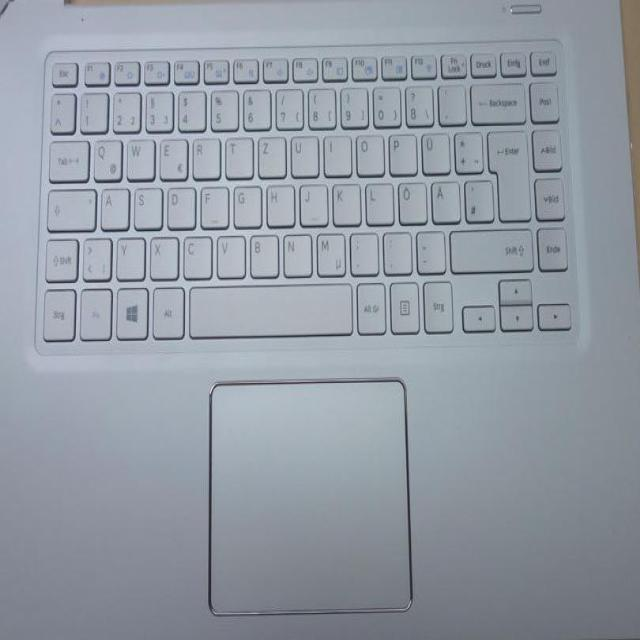0: (369, 81, 398, 124)
1: (77, 88, 106, 130)
2: (109, 88, 139, 129)
3: (143, 87, 172, 129)
4: (175, 86, 203, 129)
5: (207, 86, 235, 128)
6: (240, 85, 268, 126)
7: (272, 84, 301, 126)
8: (305, 83, 334, 126)
9: (337, 82, 366, 125)
a: (98, 183, 127, 226)
accent: (435, 79, 464, 122)
ae: (429, 177, 458, 220)
alt-left: (150, 283, 183, 336)
altgr-right: (353, 278, 384, 331)
b: (247, 230, 277, 274)
c: (181, 231, 210, 276)
caret: (47, 88, 73, 130)
comma: (346, 227, 376, 272)
d: (164, 182, 193, 225)
del: (467, 77, 525, 121)
e: (156, 134, 186, 177)
enter: (484, 125, 528, 217)
f: (198, 182, 227, 225)
g: (230, 180, 259, 225)
h: (263, 179, 293, 224)
hash: (461, 176, 492, 219)
i: (320, 130, 348, 173)
j: (296, 180, 325, 223)
k: (329, 178, 358, 222)
keyboard: (33, 37, 576, 353)
l: (362, 178, 391, 221)
less: (79, 232, 110, 278)
m: (313, 229, 343, 273)
minus: (413, 226, 443, 269)
n: (280, 229, 310, 273)
o: (353, 129, 382, 172)
oe: (395, 177, 425, 220)
p: (385, 129, 414, 172)
plus: (451, 128, 482, 171)
point: (380, 227, 410, 272)
q: (90, 135, 120, 178)
r: (189, 134, 218, 176)
s: (131, 183, 160, 226)
shift-left: (42, 233, 76, 280)
shift-lock: (44, 183, 94, 228)
shift-right: (446, 224, 532, 269)
space: (186, 278, 350, 335)
ss: (402, 81, 432, 123)
strg-left: (41, 284, 74, 339)
strg-right: (420, 277, 451, 330)
t: (222, 133, 250, 176)
tab: (46, 135, 87, 179)
u: (287, 131, 316, 174)
ue: (418, 129, 447, 172)
v: (214, 230, 243, 275)
w: (124, 134, 153, 177)
x: (147, 232, 176, 277)
y: (113, 232, 143, 277)
z: (255, 131, 284, 174)
